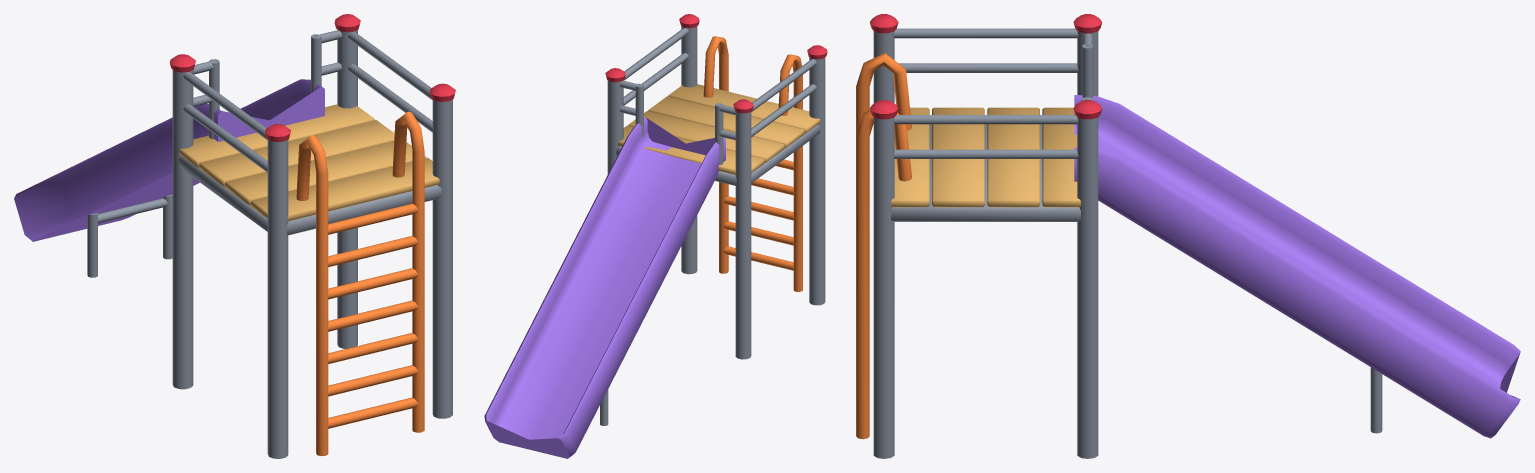
The model's file is Slide.fbx.
The picture shows the model from 3 angles, left to right: view 1: azimuth 30°, elevation 25°; view 2: azimuth 150°, elevation 25°; view 3: azimuth 270°, elevation 25°; orthographic projection. The views are drawn at different scales.
Visible parts, largest first — view 1: Slide; view 2: Slide; view 3: Slide.
Part boxes in pixels (x1,y1,x2,y2): Slide: (14,14,455,458); Slide: (484,14,827,458); Slide: (856,14,1520,458).
Bounding box in the file's own units: 2.72 × 4.61 × 7.83.
